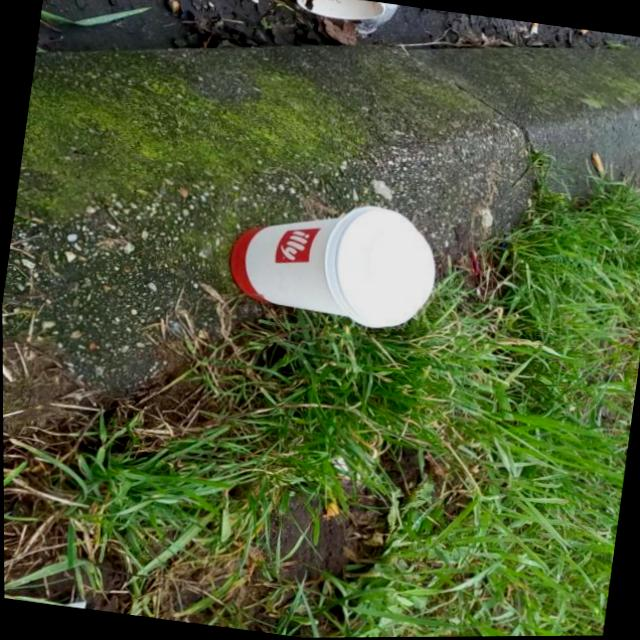Cup: (216, 183, 447, 340), (292, 0, 386, 26)
